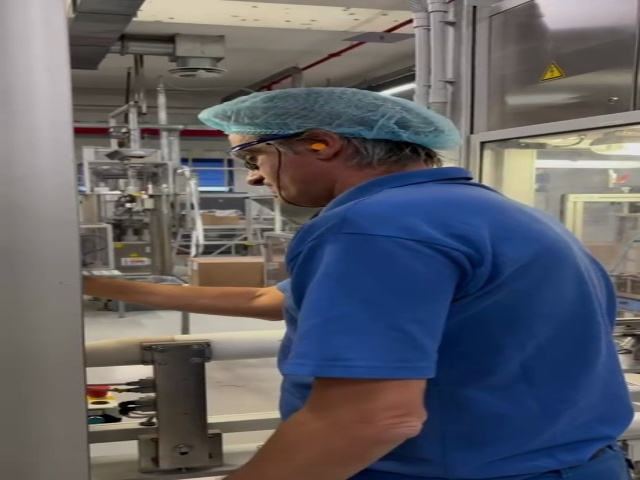Earplug: (300, 130, 346, 163)
Hairnet: (211, 90, 458, 143)
No_Helmet: (210, 89, 446, 131)
No_Vest: (295, 202, 618, 480)
Person: (201, 88, 612, 480)
Safety_Goggles: (229, 132, 309, 168)
